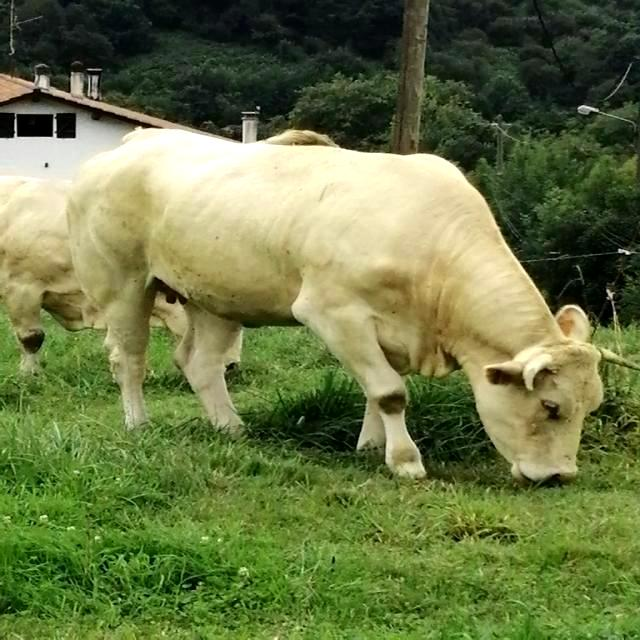COW: (68, 130, 602, 481)
